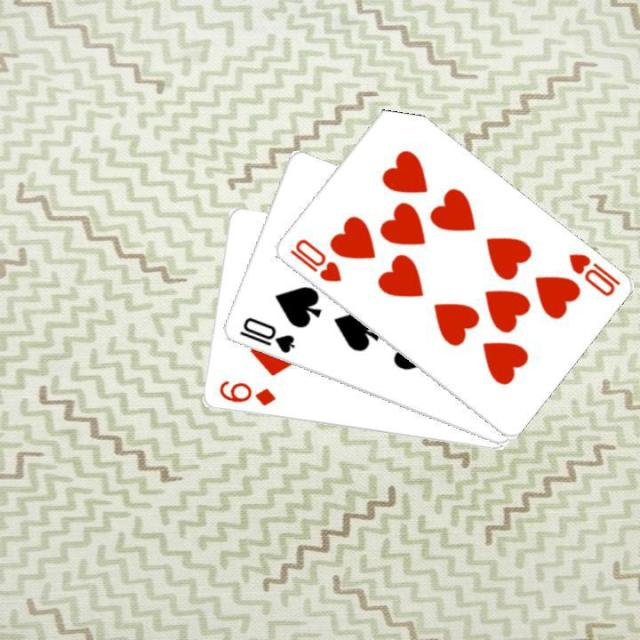10H: (285, 234, 343, 284), (564, 249, 622, 299)
10S: (235, 313, 297, 355)
6D: (215, 377, 278, 408)
